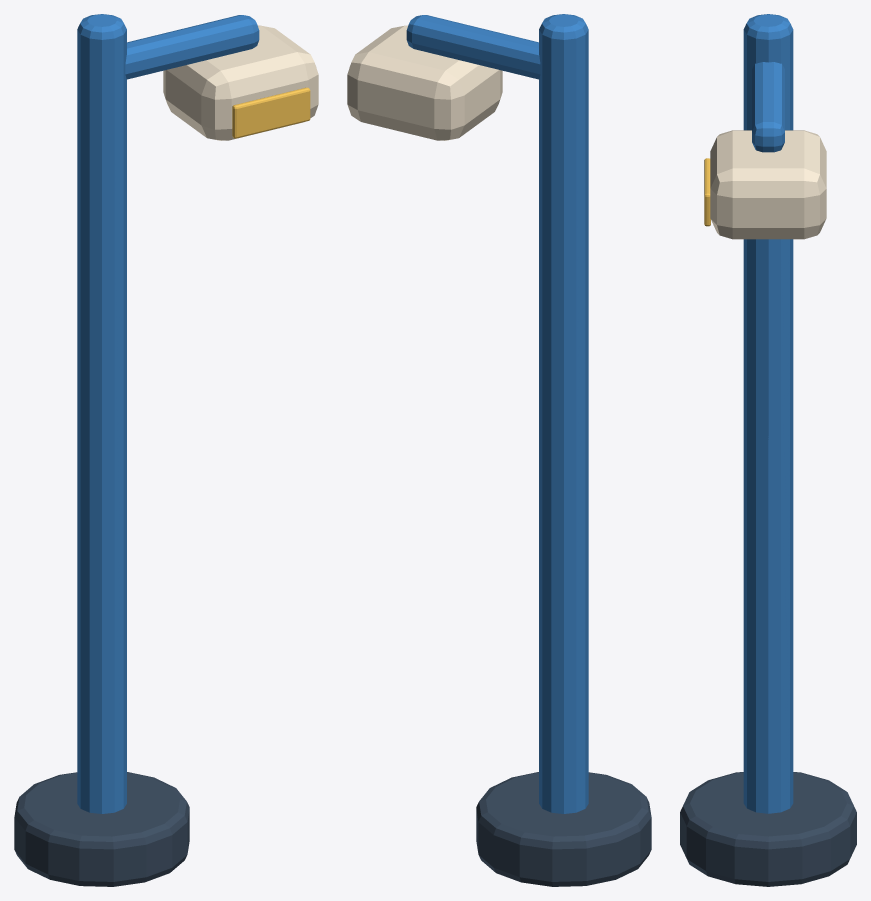
The model's file is CR_Lamp.fbx.
3 renders of one model, left to right at view 1: azimuth 30°, elevation 25°; view 2: azimuth 150°, elevation 25°; view 3: azimuth 270°, elevation 25°, orthographic.
Parts seen in each view (by area): view 1: Post_Cobalt, Base_Ink, Lamp_Cream, Arm_Cobalt, Light_Gold; view 2: Post_Cobalt, Base_Ink, Lamp_Cream, Arm_Cobalt; view 3: Post_Cobalt, Base_Ink, Lamp_Cream, Arm_Cobalt, Light_Gold.
Boxes of the visible parts, x1=… form: Post_Cobalt: x1=77, y1=14, x2=126, y2=813; Base_Ink: x1=14, y1=772, x2=189, y2=886; Lamp_Cream: x1=163, y1=25, x2=318, y2=140; Arm_Cobalt: x1=125, y1=15, x2=259, y2=79; Light_Gold: x1=232, y1=87, x2=310, y2=138; Post_Cobalt: x1=539, y1=14, x2=588, y2=813; Base_Ink: x1=476, y1=772, x2=651, y2=886; Lamp_Cream: x1=347, y1=25, x2=502, y2=140; Arm_Cobalt: x1=406, y1=15, x2=540, y2=79; Post_Cobalt: x1=743, y1=14, x2=793, y2=813; Base_Ink: x1=680, y1=772, x2=856, y2=886; Lamp_Cream: x1=710, y1=130, x2=826, y2=239; Arm_Cobalt: x1=752, y1=62, x2=784, y2=152; Light_Gold: x1=704, y1=158, x2=710, y2=226.
Bounding box in the file's own units: 1.14 × 3.33 × 0.64.
